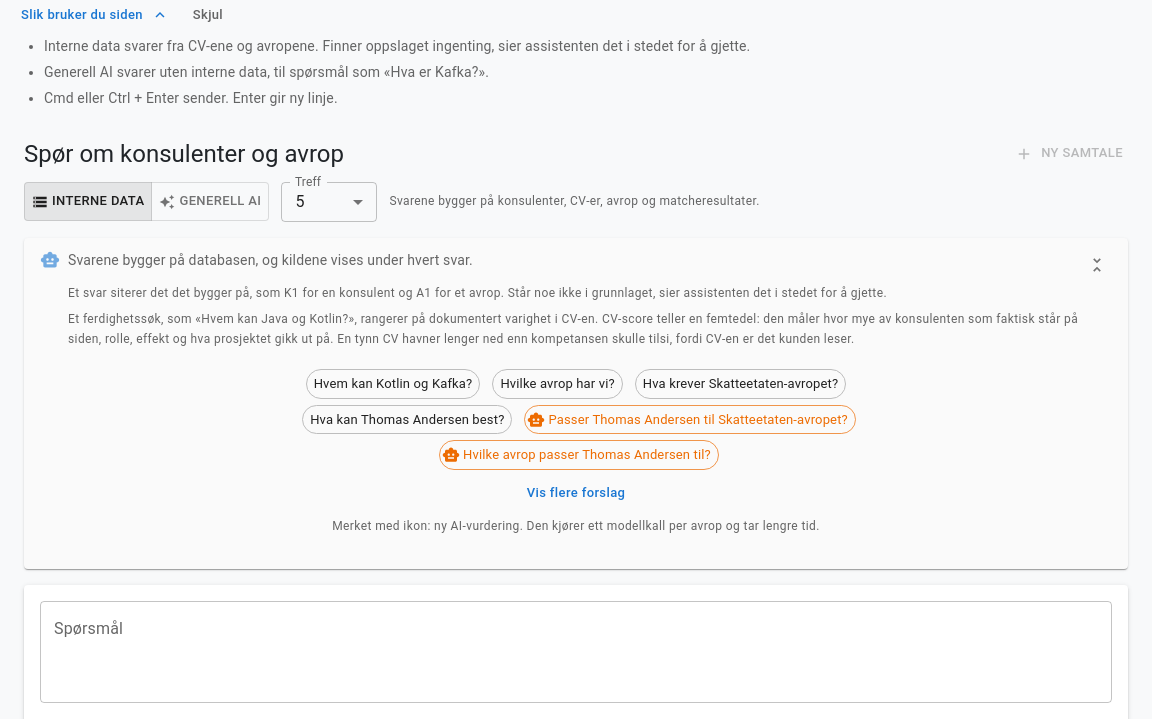
Test: ChatAssistantPage › holds the rest of the examples back behind a button
(page scrolled)
Check: the text "Hvem er tidligere vurdert mot" is not shown
Click the button "Vis flere forslag" at (576, 493), box [522,478,630,509]
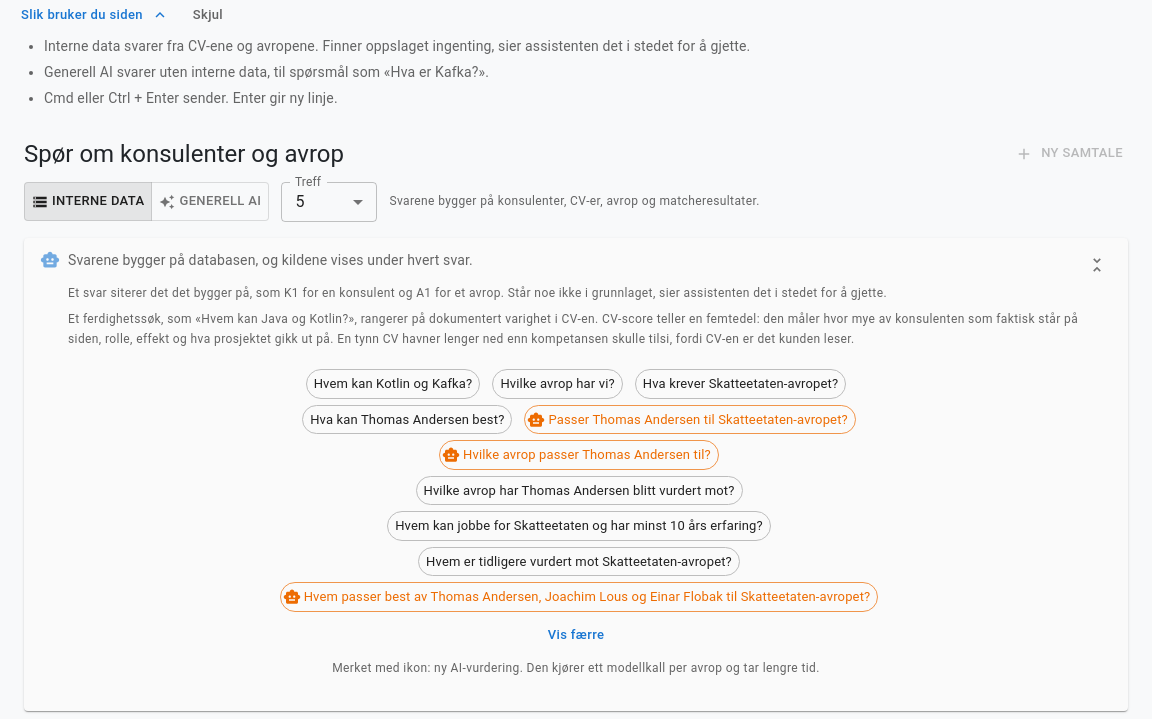
Check: the text "Hvem er tidligere vurdert mot Skatteetaten-avropet?" is shown, box [419,552,739,571]
